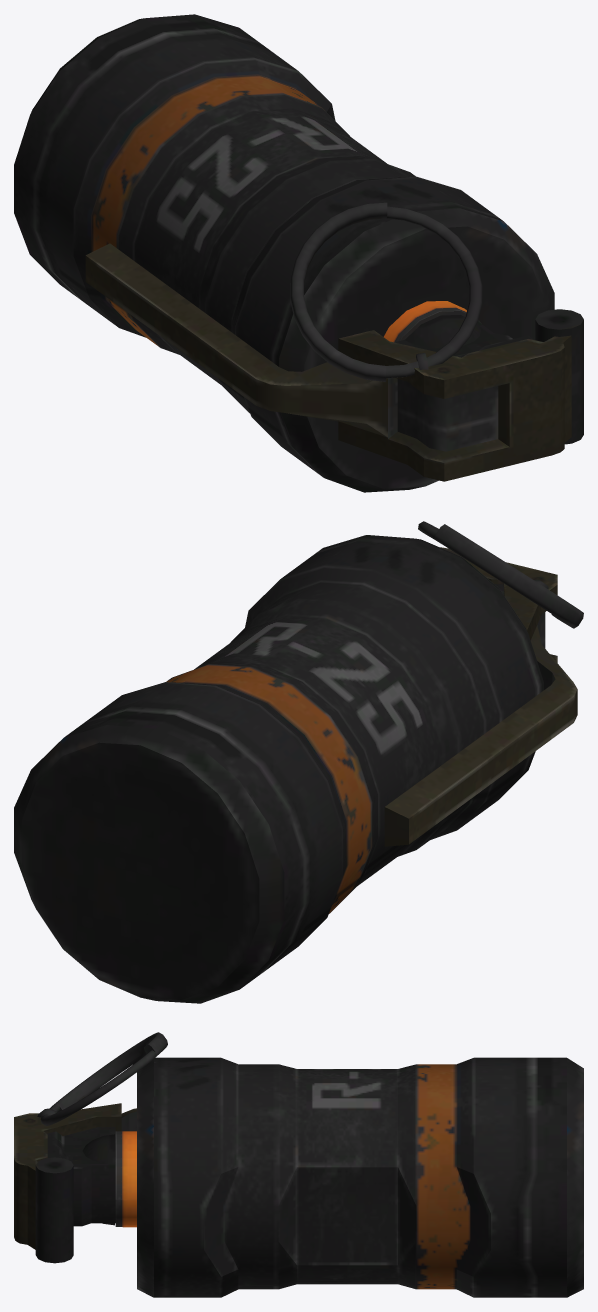
File: t6_wpn_grenade_supply_view_LOD0.obj
3 renders of one model, top to bottom at view 1: azimuth 30°, elevation 25°; view 2: azimuth 150°, elevation 25°; view 3: azimuth 270°, elevation 25°, orthographic. The views are drawn at different scales.
Visible parts, largest first — view 1: mtl_t6_wpn_grenade_supply; view 2: mtl_t6_wpn_grenade_supply; view 3: mtl_t6_wpn_grenade_supply.
Part boxes in pixels (x1,y1,x2,y2): mtl_t6_wpn_grenade_supply: (14, 14, 583, 492); mtl_t6_wpn_grenade_supply: (14, 521, 583, 1003); mtl_t6_wpn_grenade_supply: (14, 1032, 583, 1297).
Bounding box in the file's own units: 6.93 × 6.46 × 14.45.
